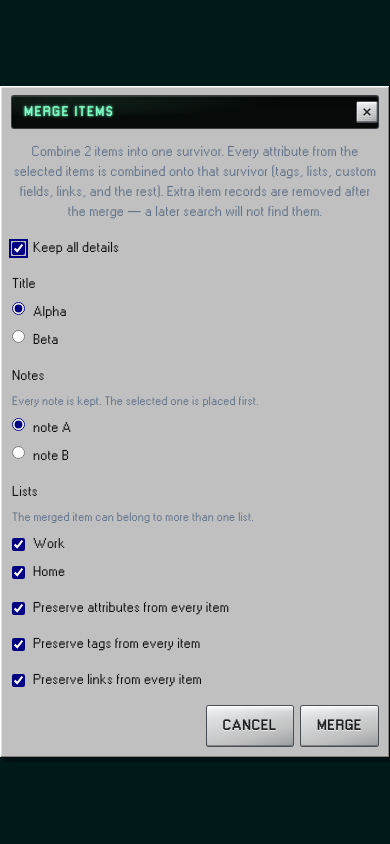
Scenario: MergeItemsDialog › keeps every note while Keep all details is on, and offers None only when it is off
Expected: the text "Every note is kept. The selected one is placed first." is shown, [12,396,258,407]
Expected: the radio button labelled "None" is not shown
Click the checkbox labelled "Keep all details". click: (18, 248)
box: [12,242,25,254]
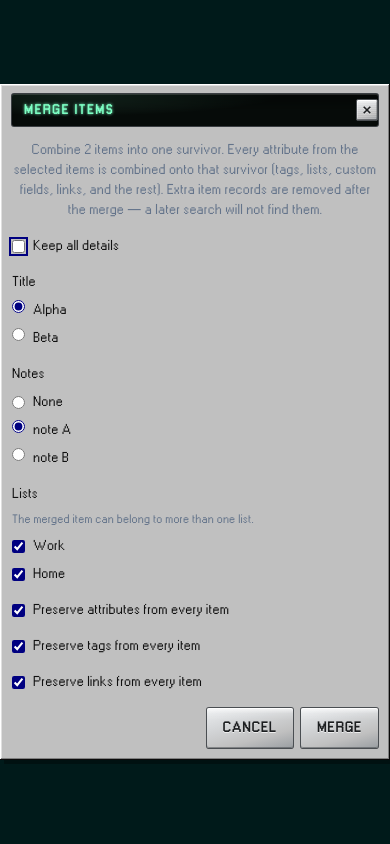
Now the radio button labelled "None" is shown, box [12,396,25,408]
